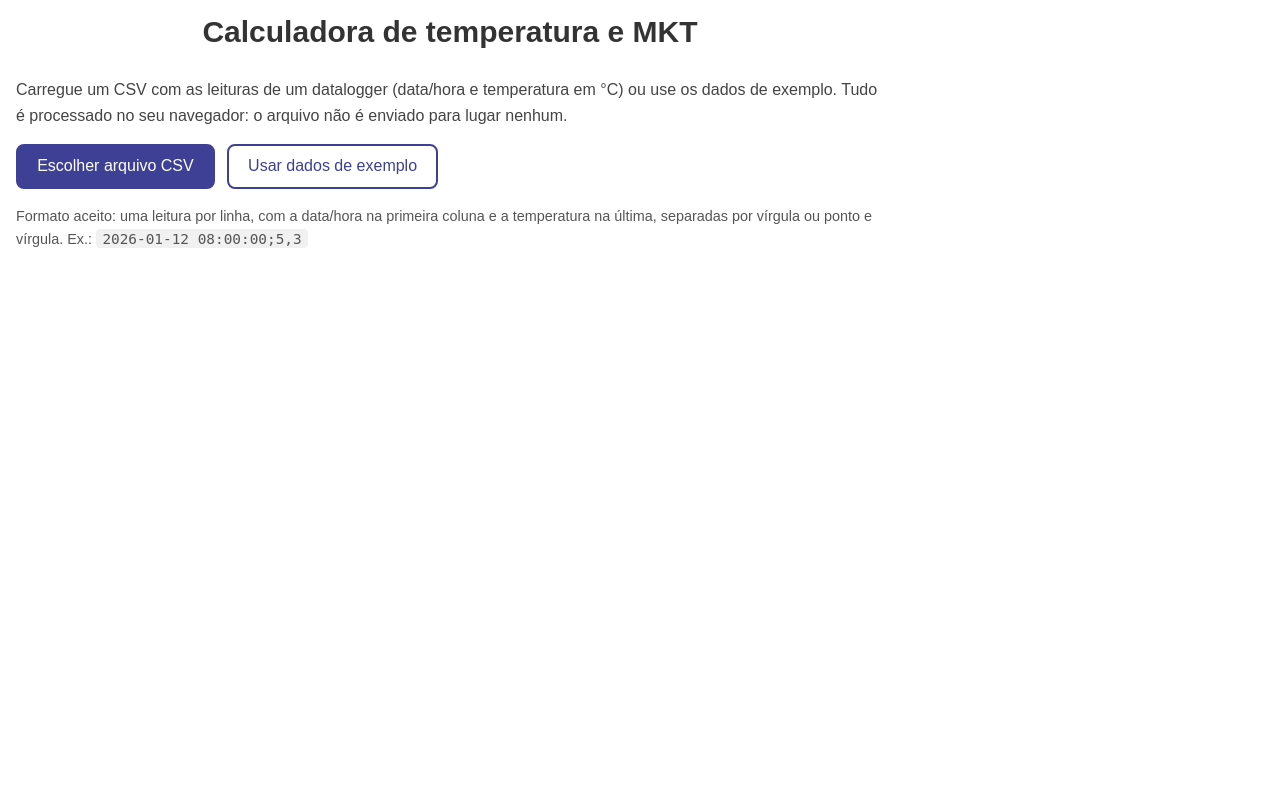
Calculadora › apagar um limite mantém os campos na tela e permite digitar de novo
Click the button "Usar dados de exemplo" at (333, 166), box [227,144,438,189]
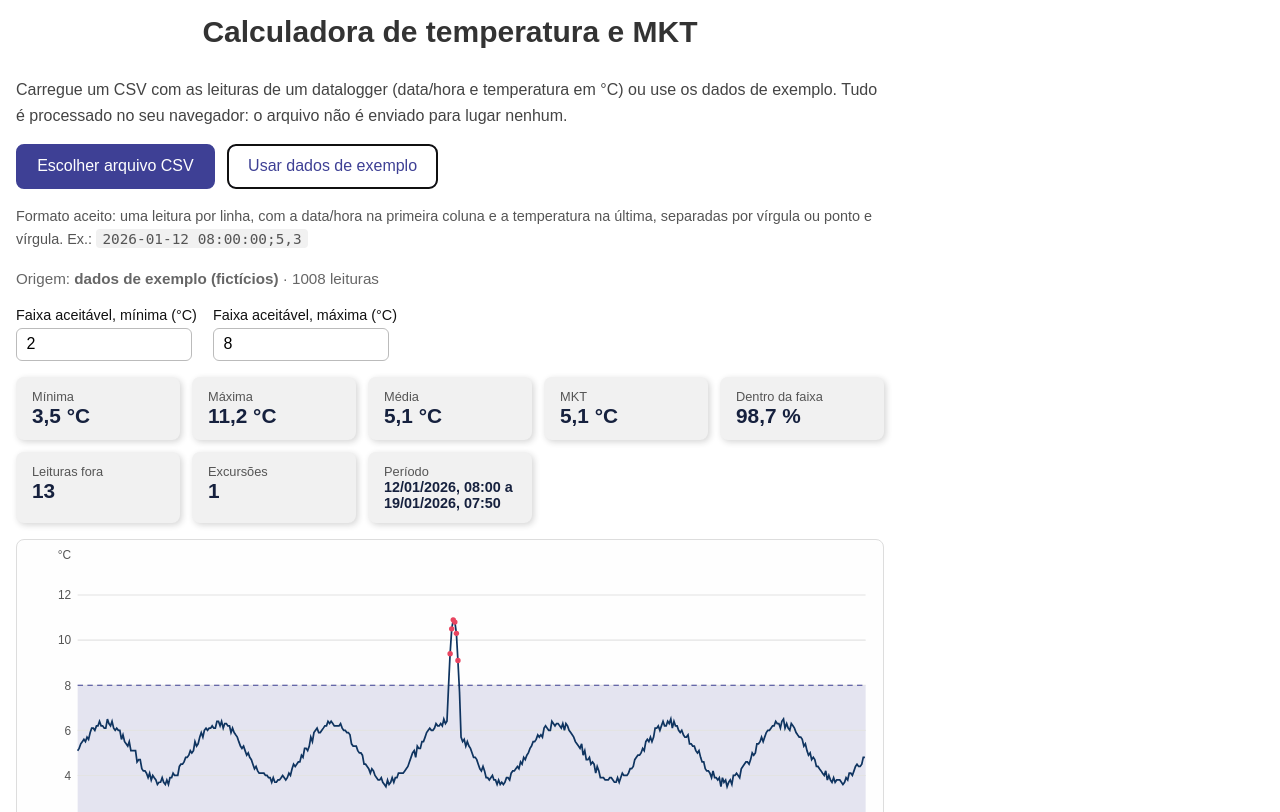
Clear the field labelled "Faixa aceitável, mínima (°C)" at (104, 344), box [16,328,192,361]
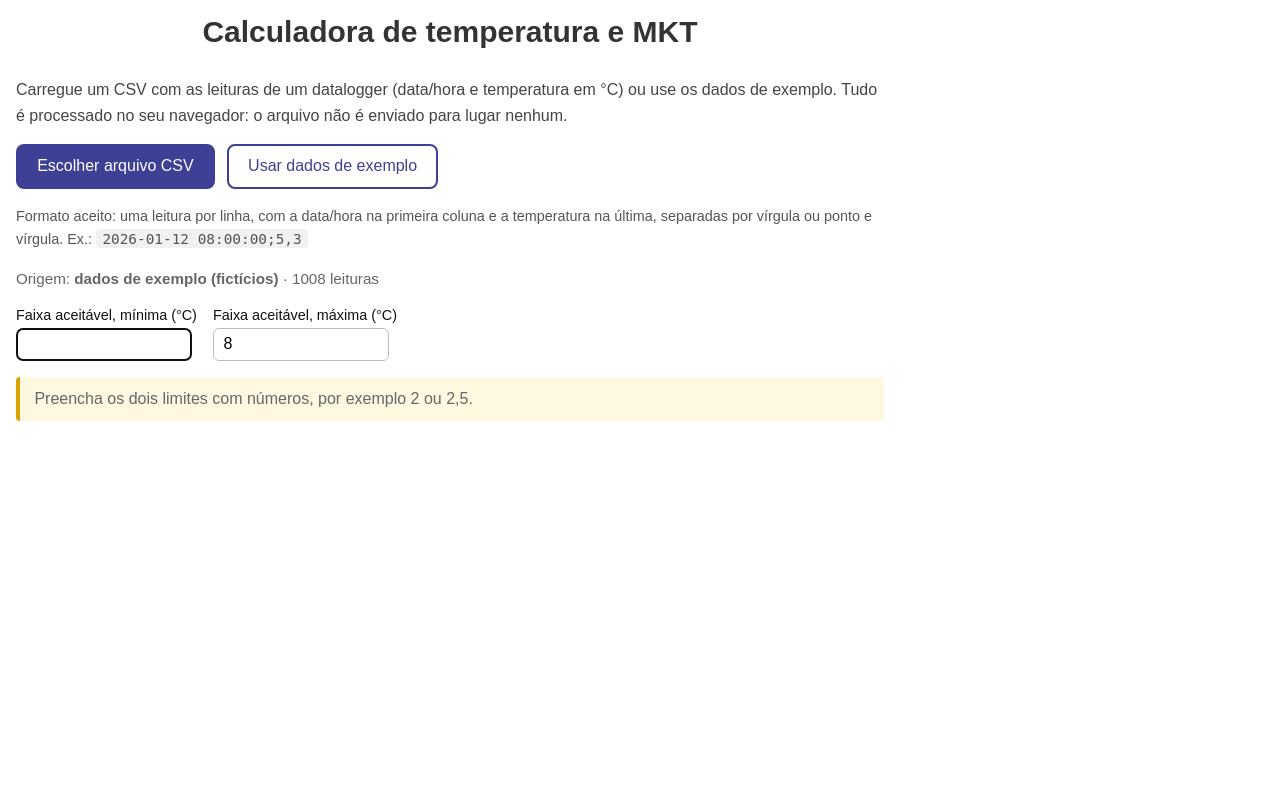
Expected: the message shows "Preencha os dois limites", [34,390,473,407]
Type "2,5" into the field labelled "Faixa aceitável, mínima (°C)" at (104, 344), box [16,328,192,361]
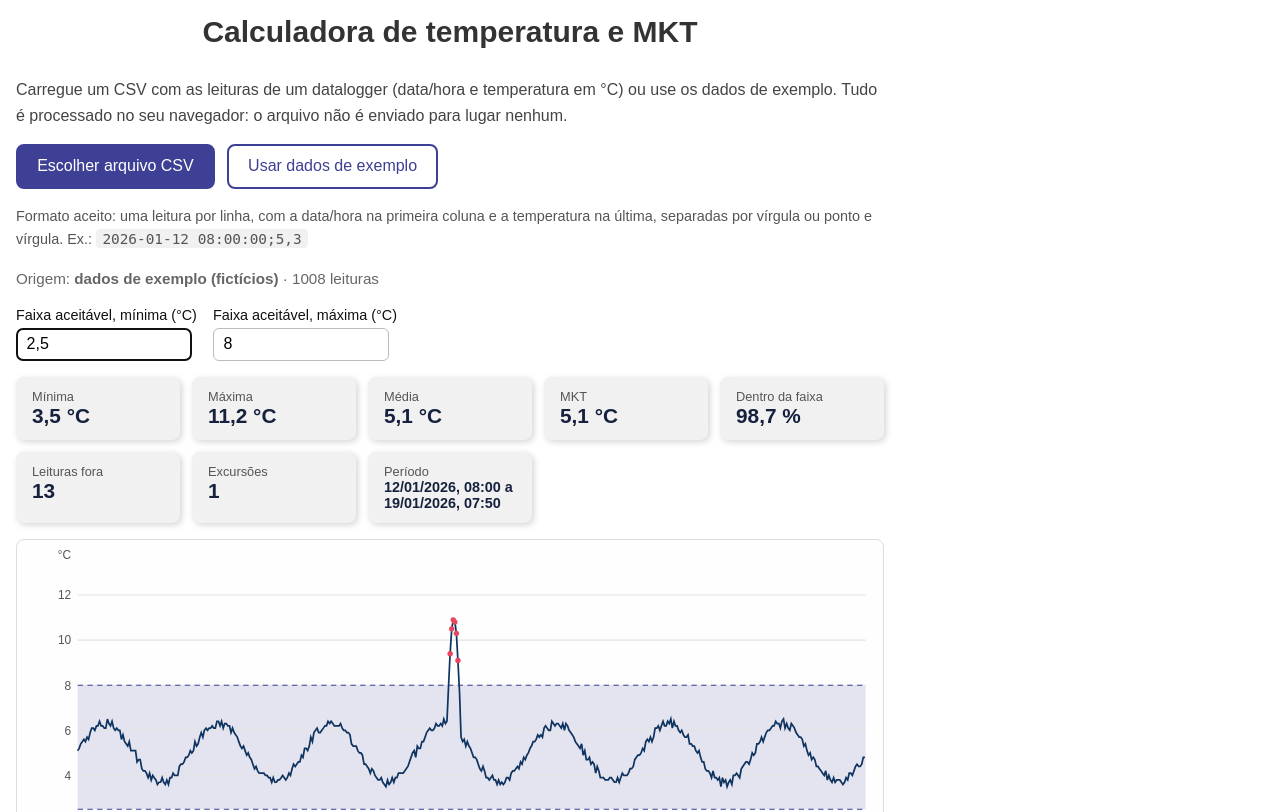
Expected: the 1st text "5,1 °C" is shown, [384,404,442,426]
